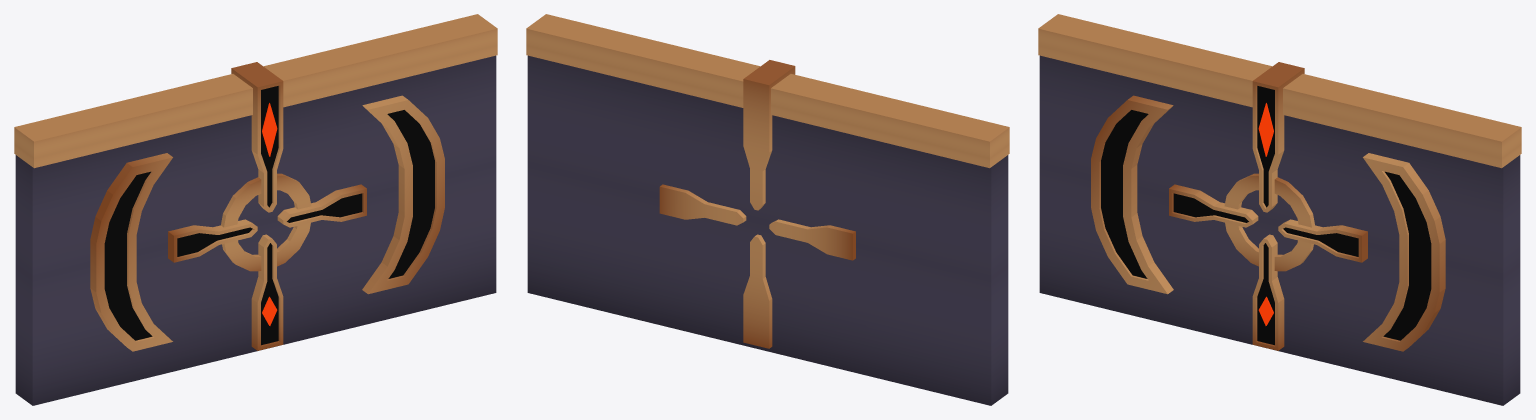
Rendered from magic_door.glb.
3 renders of one model, left to right at view 1: azimuth 30°, elevation 25°; view 2: azimuth 150°, elevation 25°; view 3: azimuth 330°, elevation 25°, orthographic.
Parts seen in each view (by area): view 1: MagicDoor.002; view 2: MagicDoor.002; view 3: MagicDoor.002.
Boxes of the visible parts, <box> form: MagicDoor.002: <box>14,14,497,405</box>; MagicDoor.002: <box>526,14,1009,405</box>; MagicDoor.002: <box>1038,14,1521,405</box>.
Size of the model in its own units: 7.2 by 4 by 0.7095.
2 materials, 1 textured.
